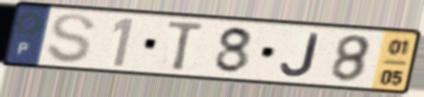1: (110, 16, 136, 69)
8: (329, 33, 374, 84), (212, 25, 255, 76)
J: (278, 31, 322, 79)
S: (44, 12, 98, 66)
T: (166, 19, 208, 73)
